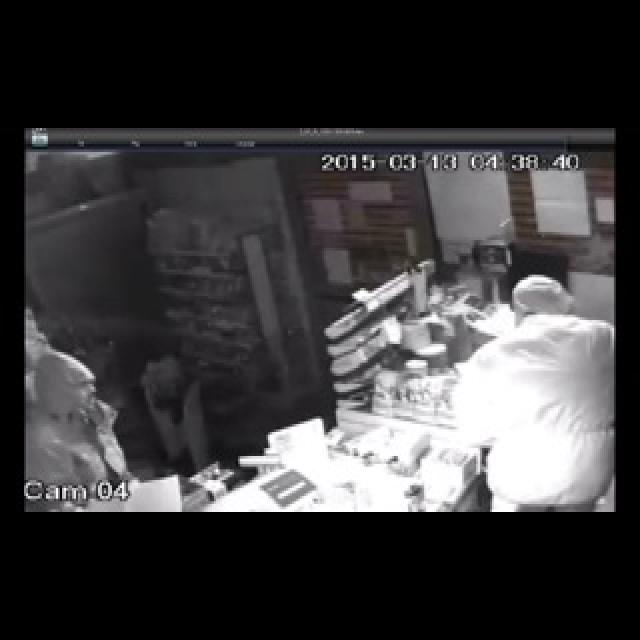thief: (452, 277, 616, 513), (28, 342, 128, 502)
